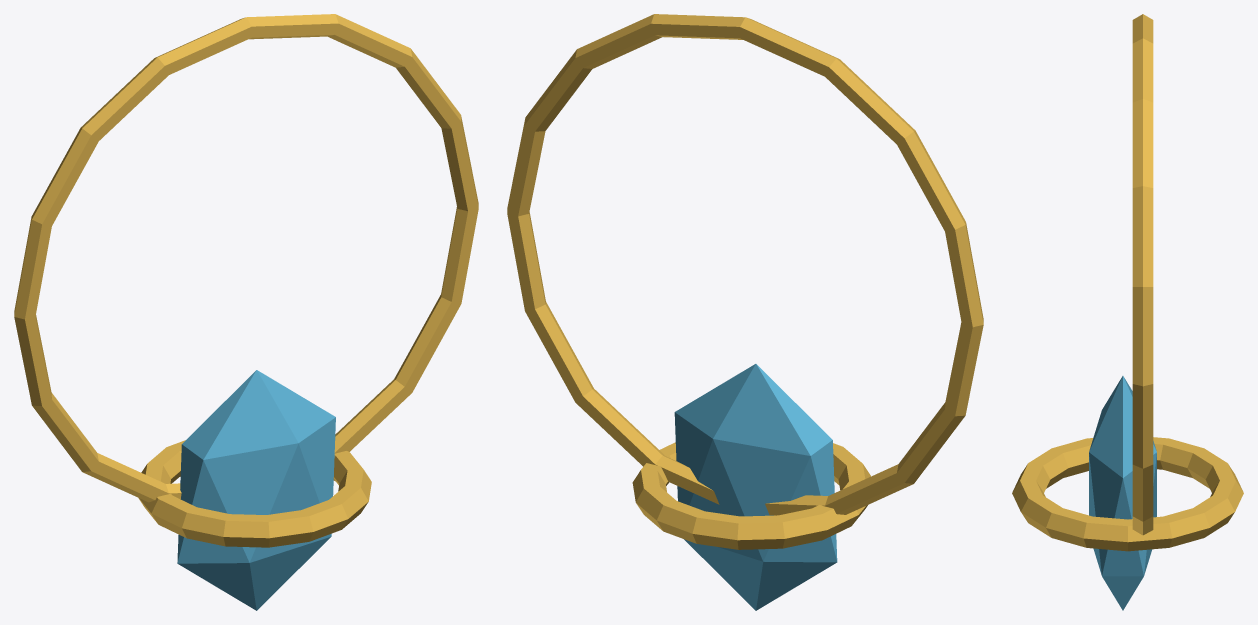
File: amulet.glb
3 renders of one model, left to right at view 1: azimuth 30°, elevation 25°; view 2: azimuth 150°, elevation 25°; view 3: azimuth 270°, elevation 25°, orthographic. The views are drawn at different scales.
Parts seen in each view (by area): view 1: chain, central_gem, gem_setting; view 2: chain, central_gem, gem_setting; view 3: gem_setting, chain, central_gem.
Part boxes in pixels (box(x1,y1,x2,y2)): chain: box(14, 14, 478, 502); central_gem: box(177, 370, 335, 610); gem_setting: box(138, 440, 371, 547); chain: box(507, 14, 983, 515); central_gem: box(674, 364, 837, 610); gem_setting: box(632, 442, 870, 549); gem_setting: box(1012, 437, 1243, 551); chain: box(1132, 14, 1153, 535); central_gem: box(1089, 376, 1156, 610).
Bounding box in the file's own units: 0.524 × 0.632 × 0.232.
